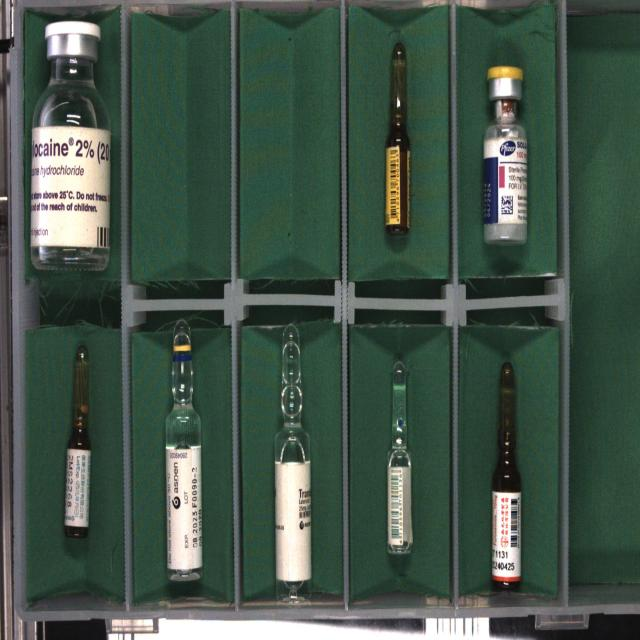Vials: (30, 21, 110, 270), (484, 66, 527, 244)
